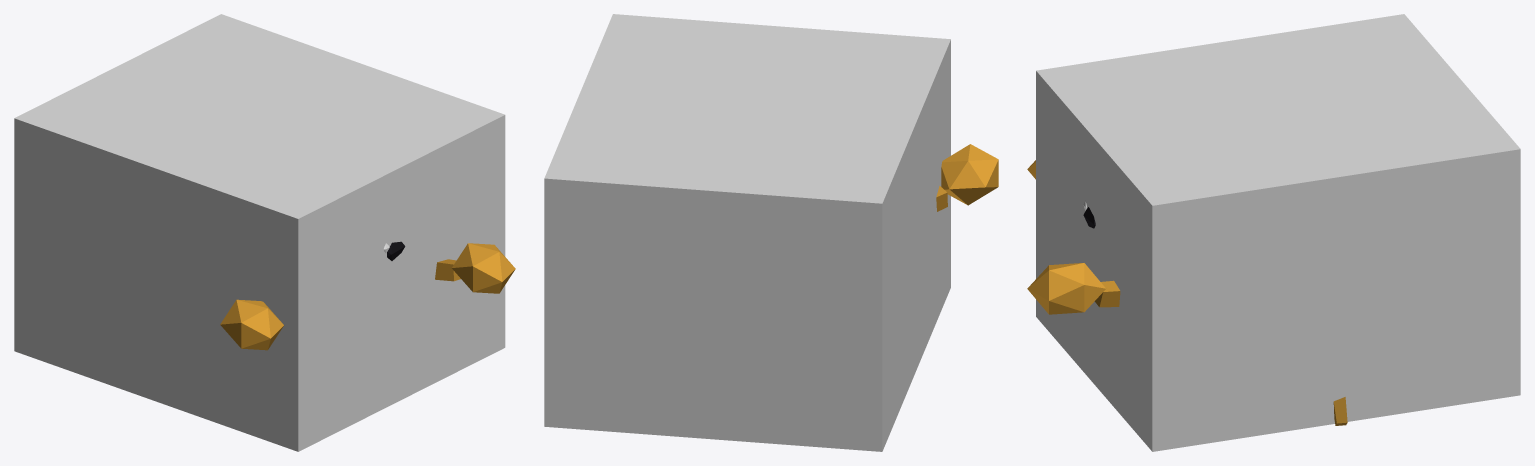
File: desert_pet2.fbx
3 renders of one model, left to right at view 1: azimuth 30°, elevation 25°; view 2: azimuth 150°, elevation 25°; view 3: azimuth 270°, elevation 25°, orthographic. The views are drawn at different scales.
Parts seen in each view (by area): view 1: Root__0.00_0.44_-0.09__1.13_0.90_1.30, ArmL__Body__-0.30_0.38_-0.26, ArmR__Body__0.30_0.38_-0.26; view 2: Root__0.00_0.44_-0.09__1.13_0.90_1.30, ArmR__Body__0.30_0.38_-0.26; view 3: Root__0.00_0.44_-0.09__1.13_0.90_1.30, ArmL__Body__-0.30_0.38_-0.26, Body__Root__0.00_0.36_0.00.
Part boxes in pixels (<box>): Root__0.00_0.44_-0.09__1.13_0.90_1.30: <box>14,14,505,451</box>; ArmL__Body__-0.30_0.38_-0.26: <box>435,243,515,293</box>; ArmR__Body__0.30_0.38_-0.26: <box>220,299,283,350</box>; Root__0.00_0.44_-0.09__1.13_0.90_1.30: <box>544,14,950,451</box>; ArmR__Body__0.30_0.38_-0.26: <box>936,144,998,211</box>; Root__0.00_0.44_-0.09__1.13_0.90_1.30: <box>1036,14,1520,451</box>; ArmL__Body__-0.30_0.38_-0.26: <box>1027,263,1120,314</box>; Body__Root__0.00_0.36_0.00: <box>1083,200,1347,425</box>.
Size of the model in its own units: 42.24 by 25.27 by 45.93.
Materials: 1 (1 with a texture image).
